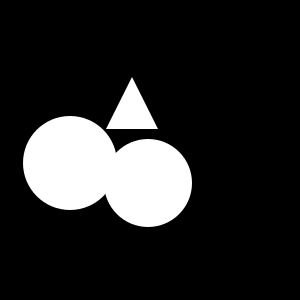rectangle: (23, 116, 117, 210), (104, 139, 192, 227)
triangle: (106, 77, 158, 129)
